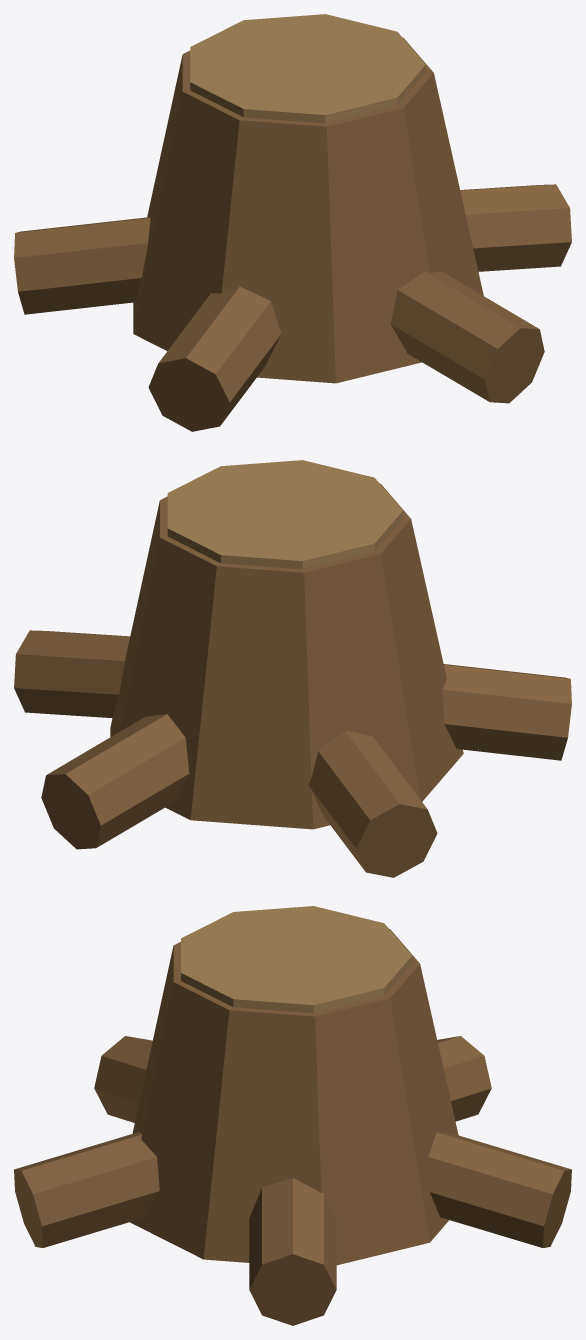
File: BP_Stump.fbx
3 views of the same model, one above another, from view 1: azimuth 30°, elevation 25°; view 2: azimuth 150°, elevation 25°; view 3: azimuth 270°, elevation 25° (orthographic).
Visible parts, largest first — view 1: BP_Stump; view 2: BP_Stump; view 3: BP_Stump.
Part boxes in pixels (x1=…): BP_Stump: x1=14, y1=14, x2=571, y2=431; BP_Stump: x1=14, y1=460, x2=571, y2=877; BP_Stump: x1=14, y1=906, x2=571, y2=1325.
Bounding box in the file's own units: 135 × 71.09 × 140.
